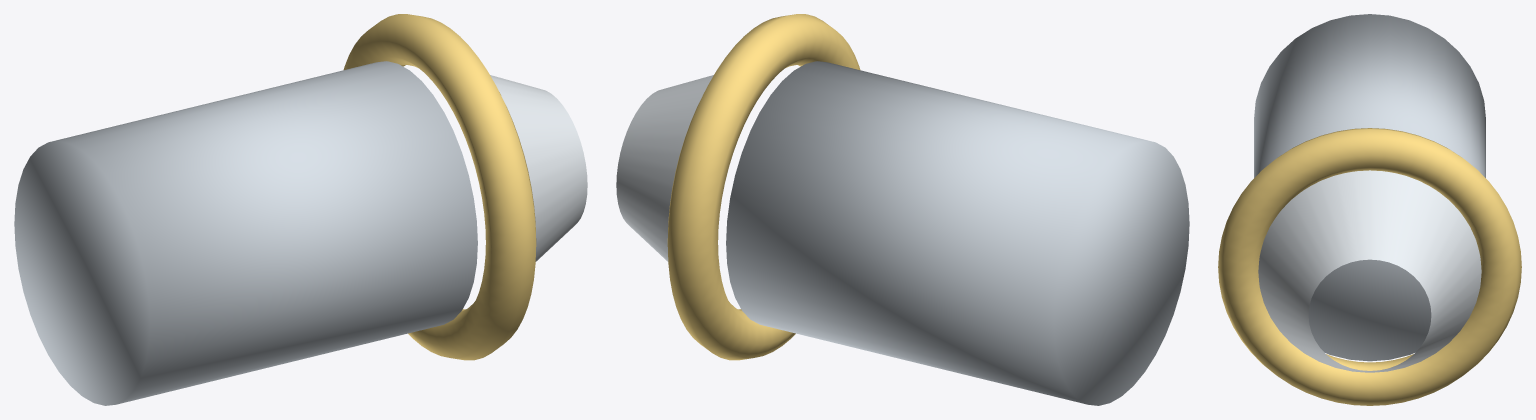
The model's file is 19_L85_ServiceSpacecraftExtendableDockingProbe.glb.
3 views of the same model, side by side, from view 1: azimuth 30°, elevation 25°; view 2: azimuth 150°, elevation 25°; view 3: azimuth 270°, elevation 25° (orthographic). The views are drawn at different scales.
Parts seen in each view (by area): view 1: L85_ServiceSpacecraftExtendab_Part_0000, L85_ServiceSpacecraftExtendab_Part_0001, L85_ServiceSpacecraftExtendab_Part_0002; view 2: L85_ServiceSpacecraftExtendab_Part_0000, L85_ServiceSpacecraftExtendab_Part_0001, L85_ServiceSpacecraftExtendab_Part_0002; view 3: L85_ServiceSpacecraftExtendab_Part_0000, L85_ServiceSpacecraftExtendab_Part_0001, L85_ServiceSpacecraftExtendab_Part_0002.
Boxes of the visible parts, x1,y1,x2,y2 form: L85_ServiceSpacecraftExtendab_Part_0000: (14, 61, 477, 405); L85_ServiceSpacecraftExtendab_Part_0001: (343, 14, 536, 360); L85_ServiceSpacecraftExtendab_Part_0002: (490, 75, 587, 261); L85_ServiceSpacecraftExtendab_Part_0000: (726, 61, 1189, 405); L85_ServiceSpacecraftExtendab_Part_0001: (667, 14, 860, 360); L85_ServiceSpacecraftExtendab_Part_0002: (616, 75, 713, 261); L85_ServiceSpacecraftExtendab_Part_0000: (1254, 14, 1485, 361); L85_ServiceSpacecraftExtendab_Part_0001: (1218, 128, 1521, 405); L85_ServiceSpacecraftExtendab_Part_0002: (1258, 170, 1481, 372).
Bounding box in the file's own units: 1.36 × 0.89 × 0.89.
